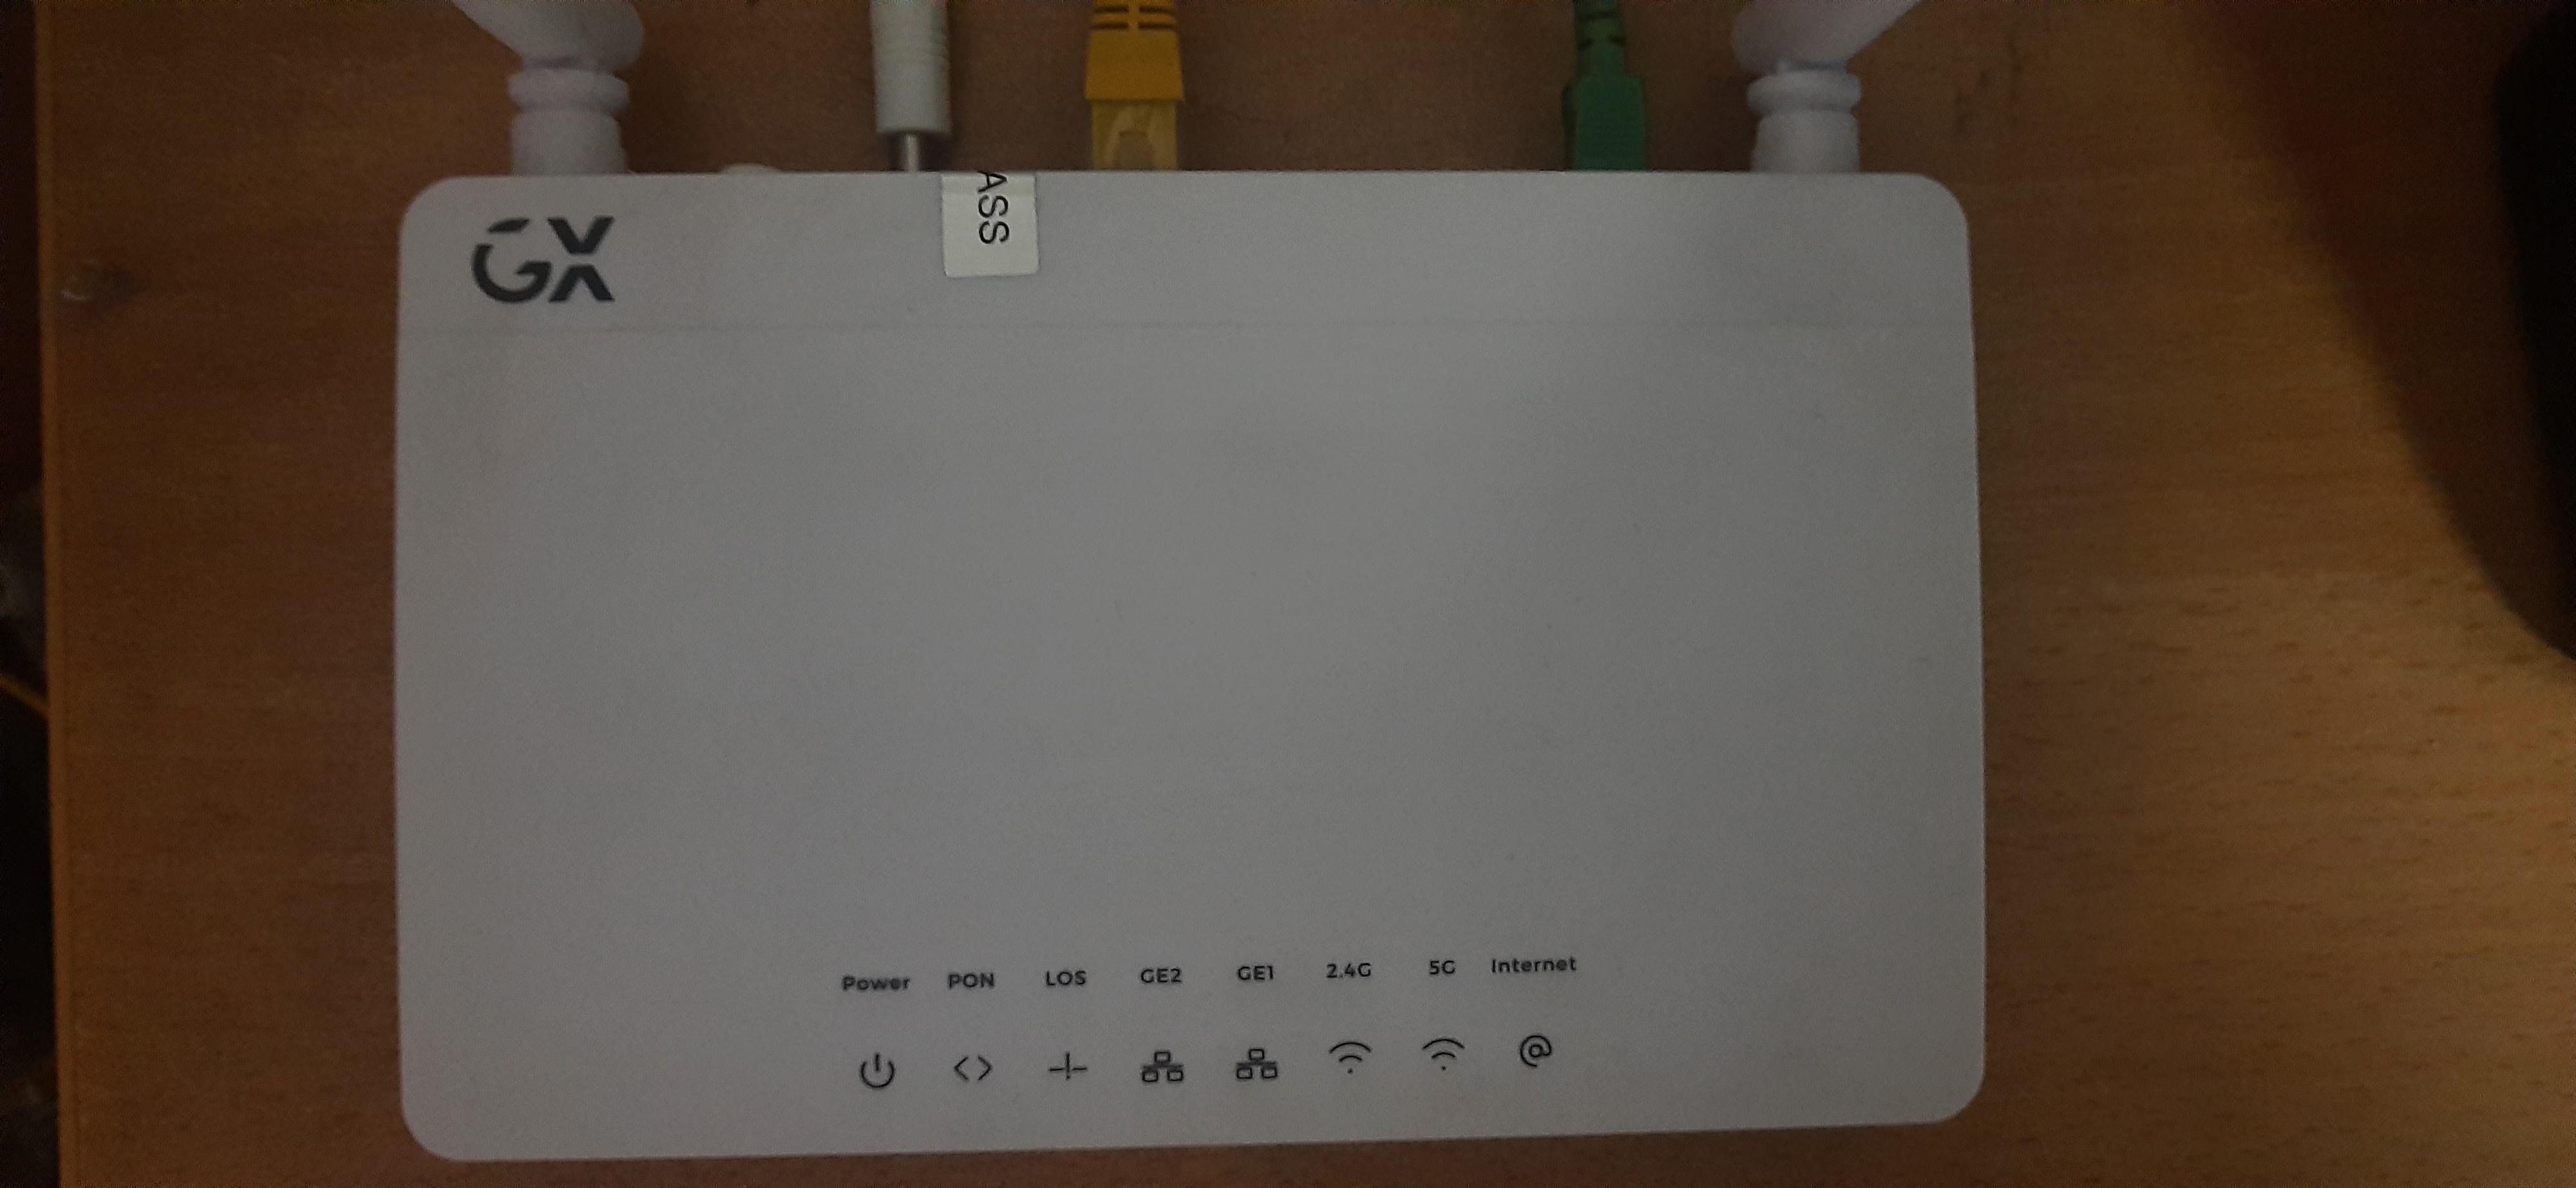WhiteWireIssue: (792, 935, 1805, 1107)
